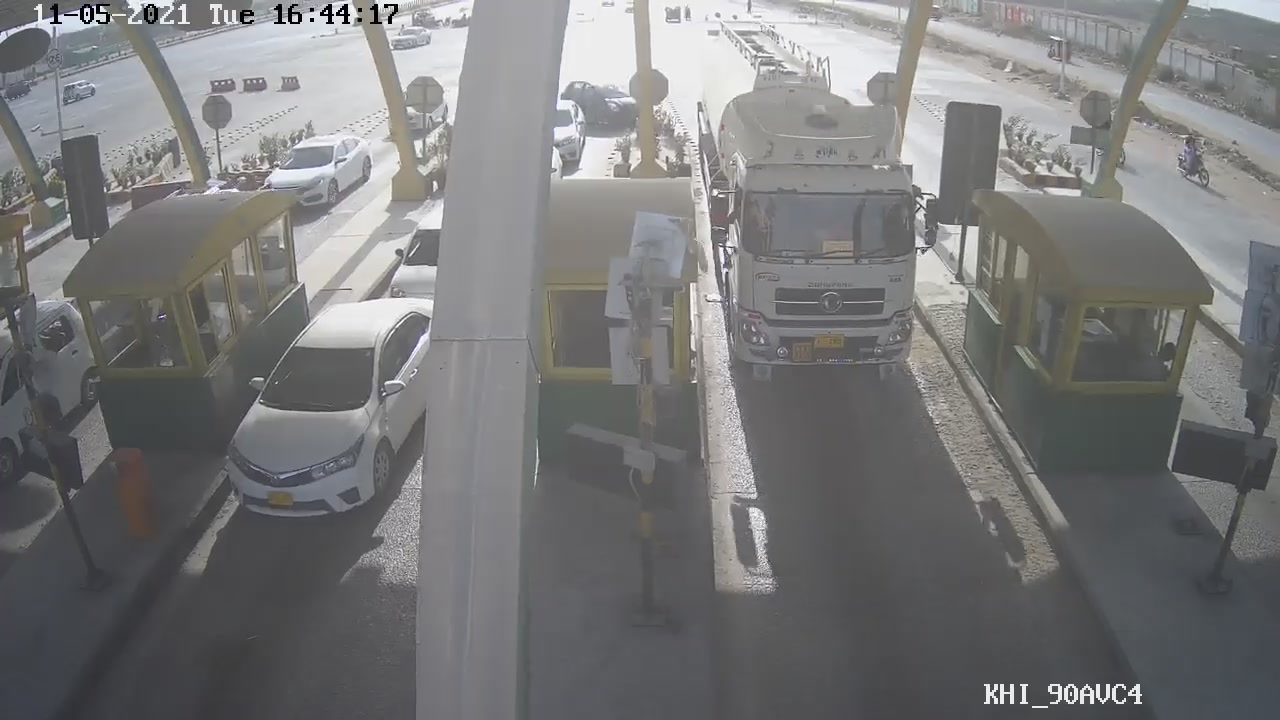F6: (687, 14, 945, 383)
